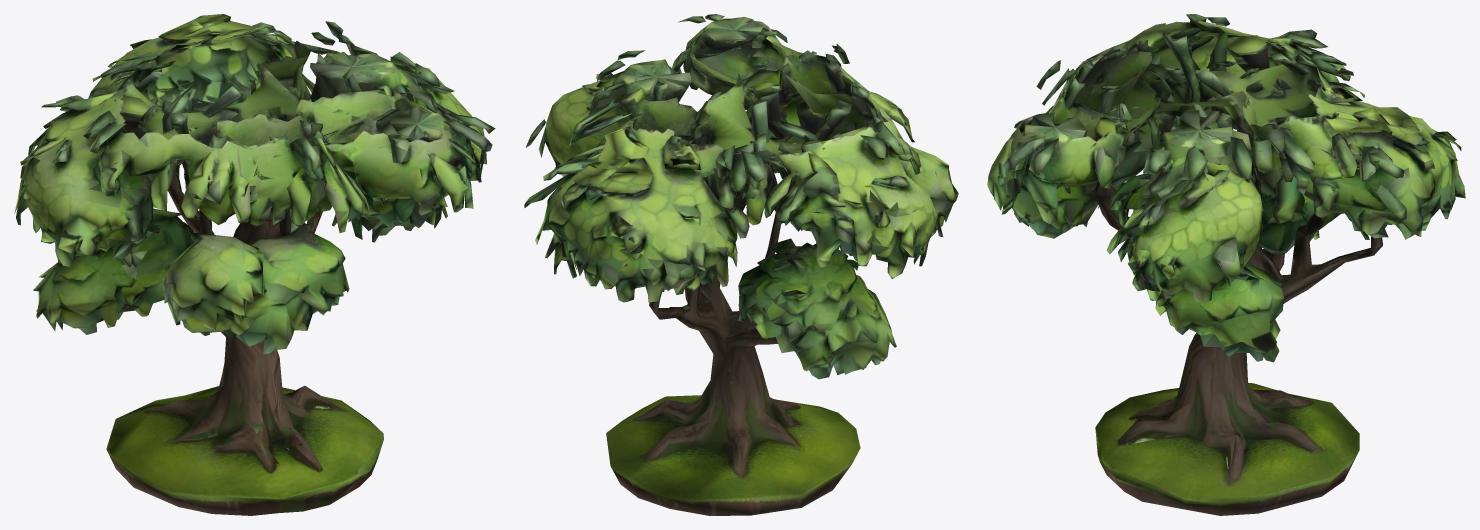
The picture shows the model from 3 angles, left to right: view 1: azimuth 30°, elevation 25°; view 2: azimuth 150°, elevation 25°; view 3: azimuth 270°, elevation 25°; orthographic projection. The views are drawn at different scales.
Size of the model in its own units: 2 by 1.8 by 1.96.
Materials: 1 (1 with a texture image).
